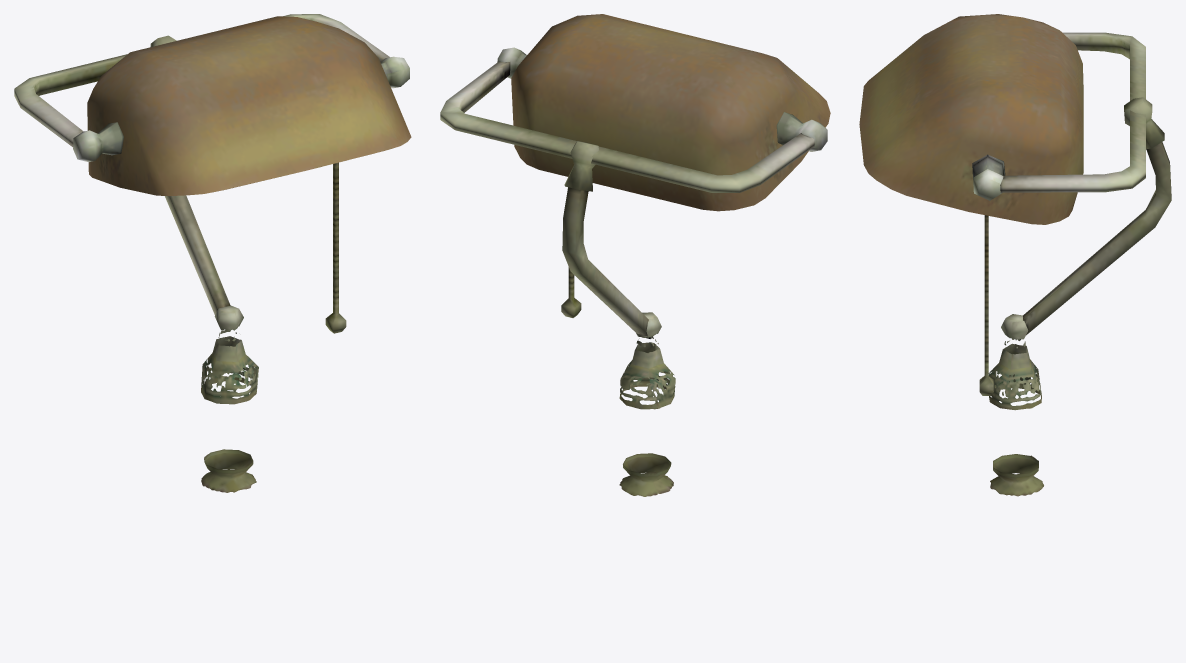
The model's file is sm35_027_lightstand01a.fbx.
3 views of the same model, side by side, from view 1: azimuth 30°, elevation 25°; view 2: azimuth 150°, elevation 25°; view 3: azimuth 270°, elevation 25° (orthographic). The views are drawn at different scales.
Visible parts, largest first — view 1: LOD_1_Group_2_Sub_1__sm35_027_LightStand01A_C_Mat, LOD_1_Group_0_Sub_1__sm35_027_LightStand01A_A_Mat; view 2: LOD_1_Group_2_Sub_1__sm35_027_LightStand01A_C_Mat, LOD_1_Group_0_Sub_1__sm35_027_LightStand01A_A_Mat; view 3: LOD_1_Group_2_Sub_1__sm35_027_LightStand01A_C_Mat, LOD_1_Group_0_Sub_1__sm35_027_LightStand01A_A_Mat.
Part boxes in pixels (x1,y1,x2,y2): LOD_1_Group_2_Sub_1__sm35_027_LightStand01A_C_Mat: (87,16,411,196); LOD_1_Group_0_Sub_1__sm35_027_LightStand01A_A_Mat: (14,14,409,492); LOD_1_Group_2_Sub_1__sm35_027_LightStand01A_C_Mat: (511,14,830,211); LOD_1_Group_0_Sub_1__sm35_027_LightStand01A_A_Mat: (440,47,827,496); LOD_1_Group_2_Sub_1__sm35_027_LightStand01A_C_Mat: (859,14,1083,224); LOD_1_Group_0_Sub_1__sm35_027_LightStand01A_A_Mat: (972,32,1171,496).
Size of the model in its own units: 0.3218 by 0.5172 by 0.2734.
